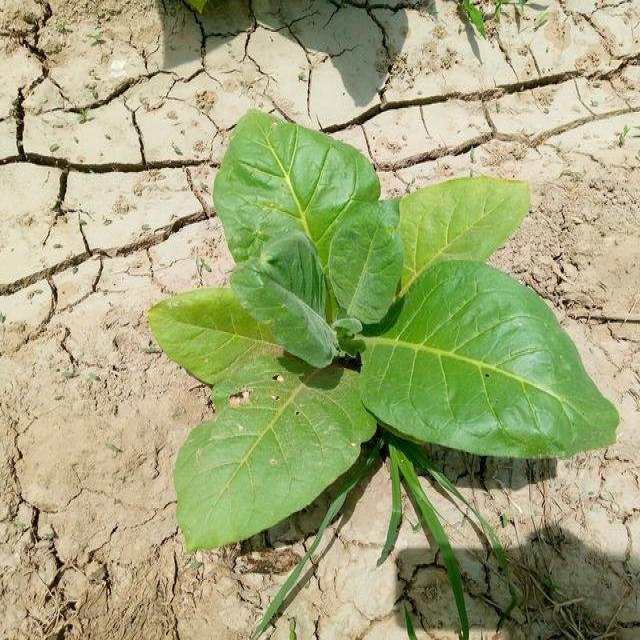crop: (148, 113, 622, 553)
